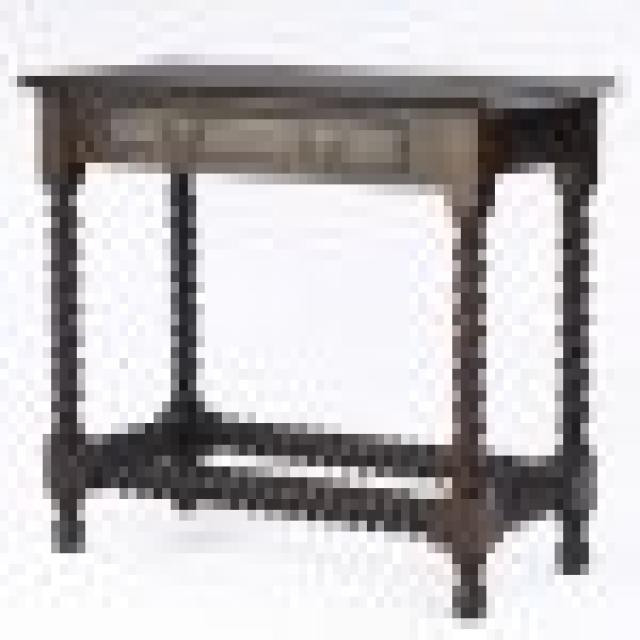table: (13, 50, 620, 622)
